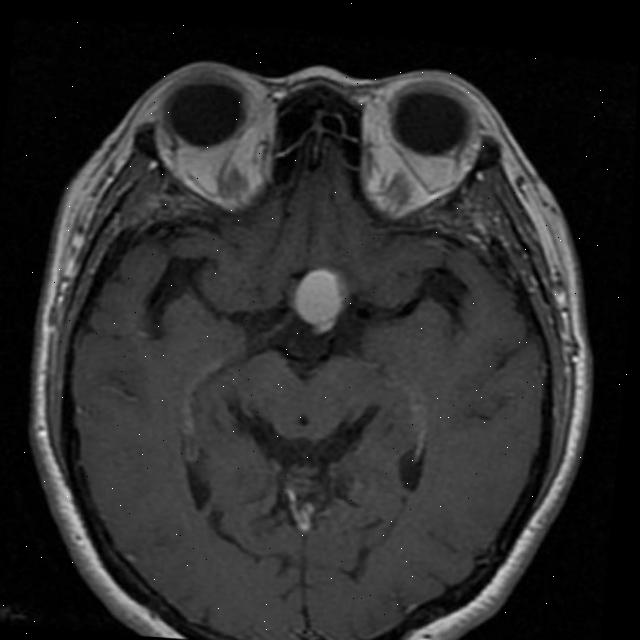Pituitary: (293, 265, 347, 336)
